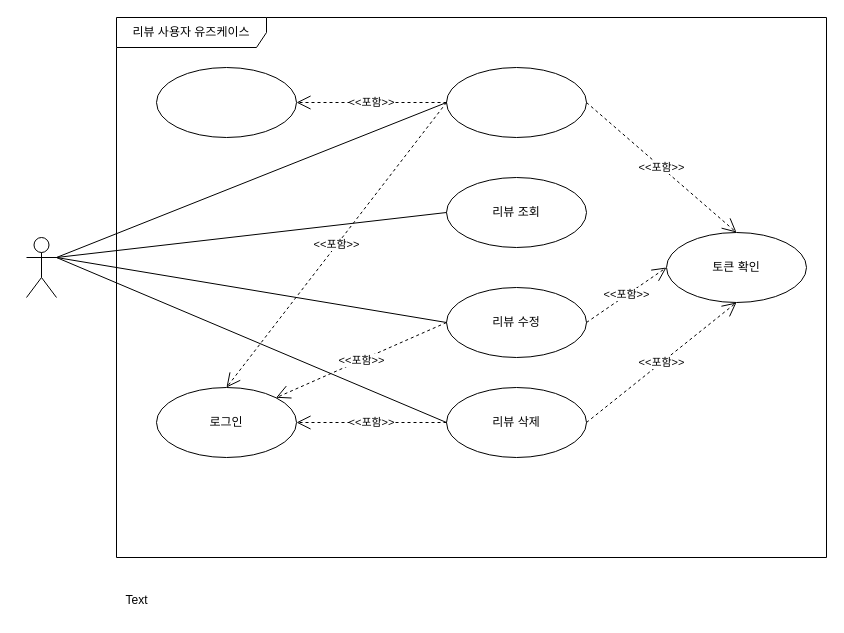
The diagram is 844 pixels wide and 633 high, and some of its shapes have lost their labels. Here are the shapes that lost their labels. From the top down, the box of each, then its label:
(156, 66, 296, 138): 주문완료 상태 확인
(446, 66, 586, 138): 리뷰 등록
(26, 236, 56, 298): customer
